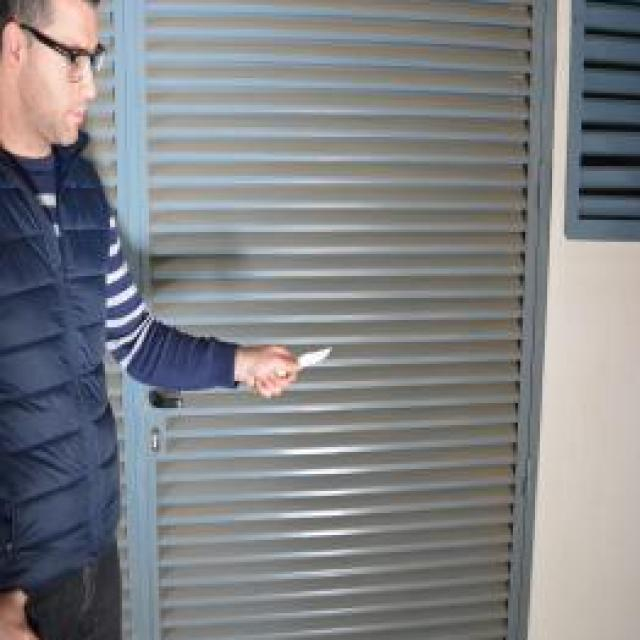knife: (249, 345, 334, 398)
